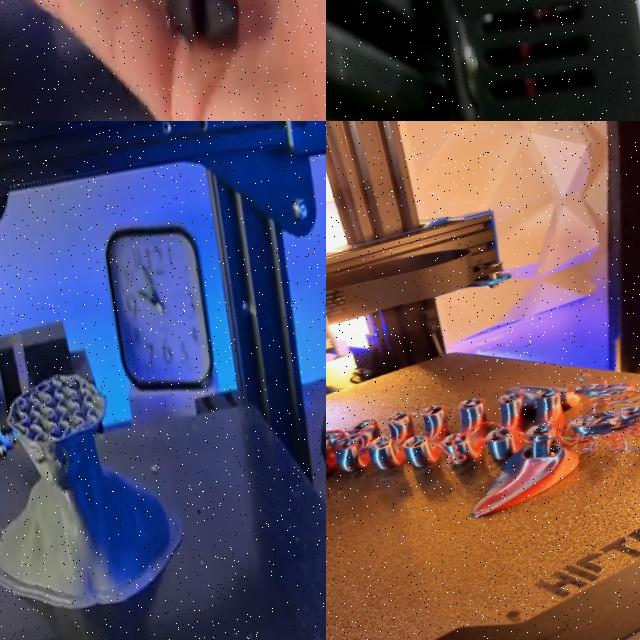spaghetti: (558, 347, 640, 467)
